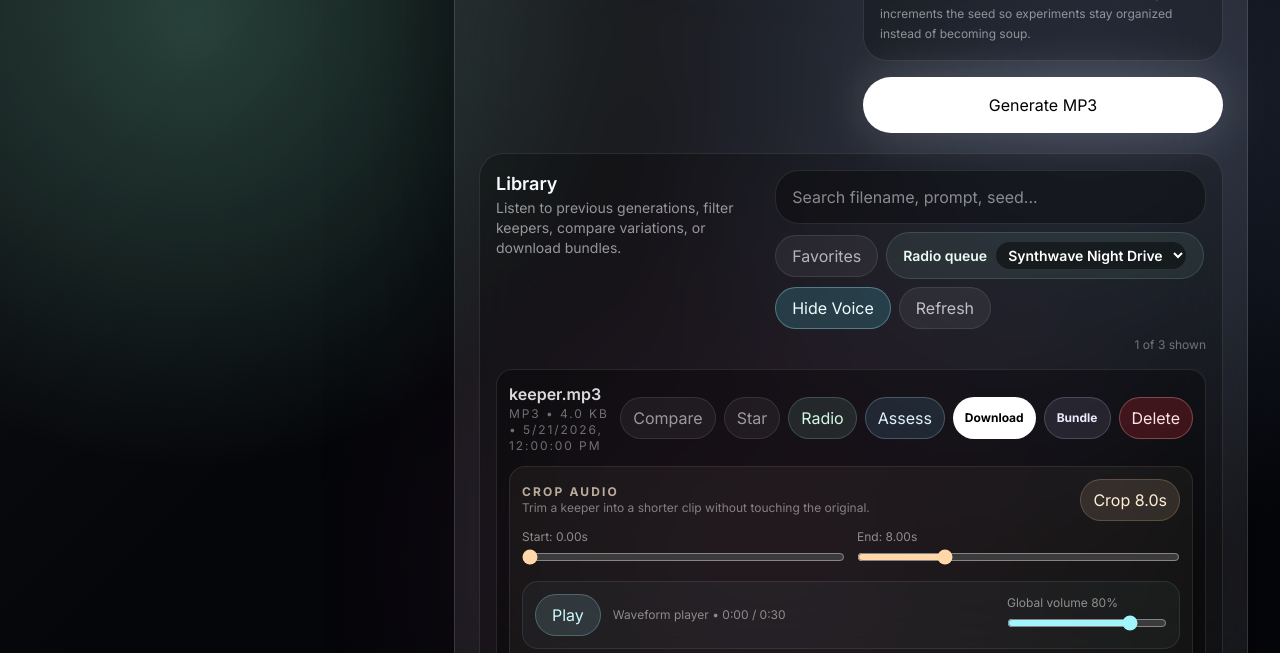
main page radio lineup action › hides radio utility audio by default and shows it when toggled
(page scrolled)
Check: the text "keeper.mp3" is shown, box [509,382,612,406]
Check: the text "radio_announce_keeper_now_playing.mp3" is not shown
Click the button "Hide Voice" at (833, 308), box [775,287,891,329]
(page scrolled)
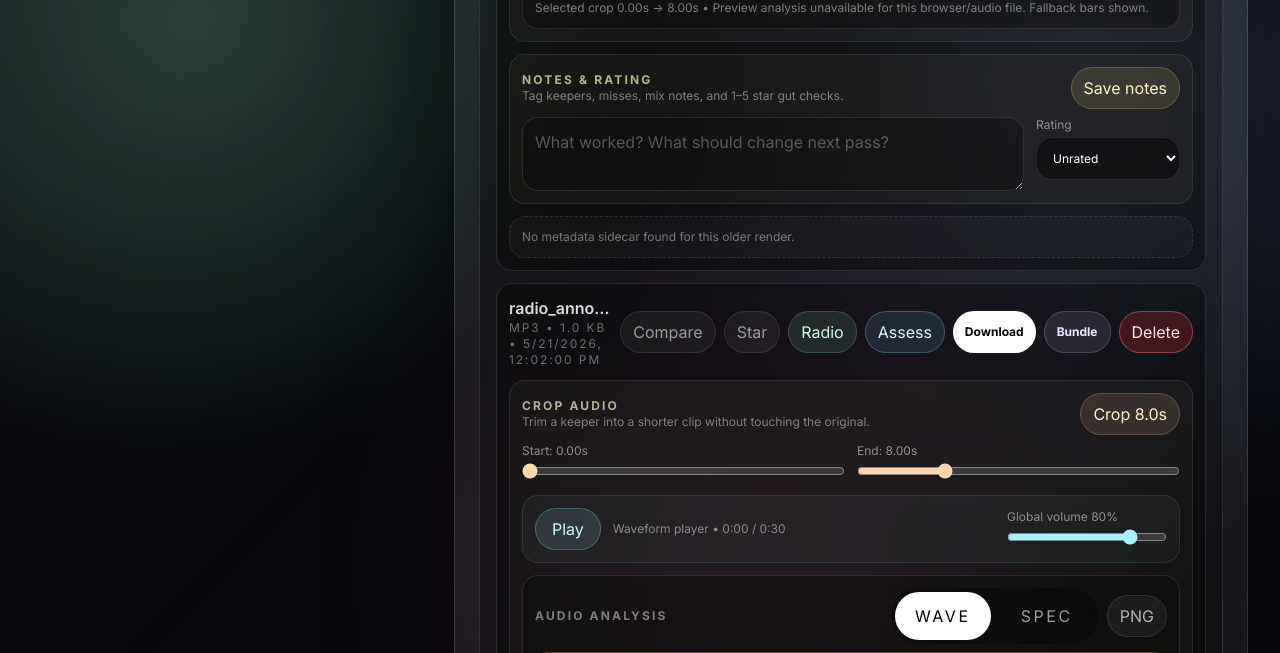
Check: the text "radio_announce_keeper_now_playing.mp3" is shown, box [509,296,612,320]
